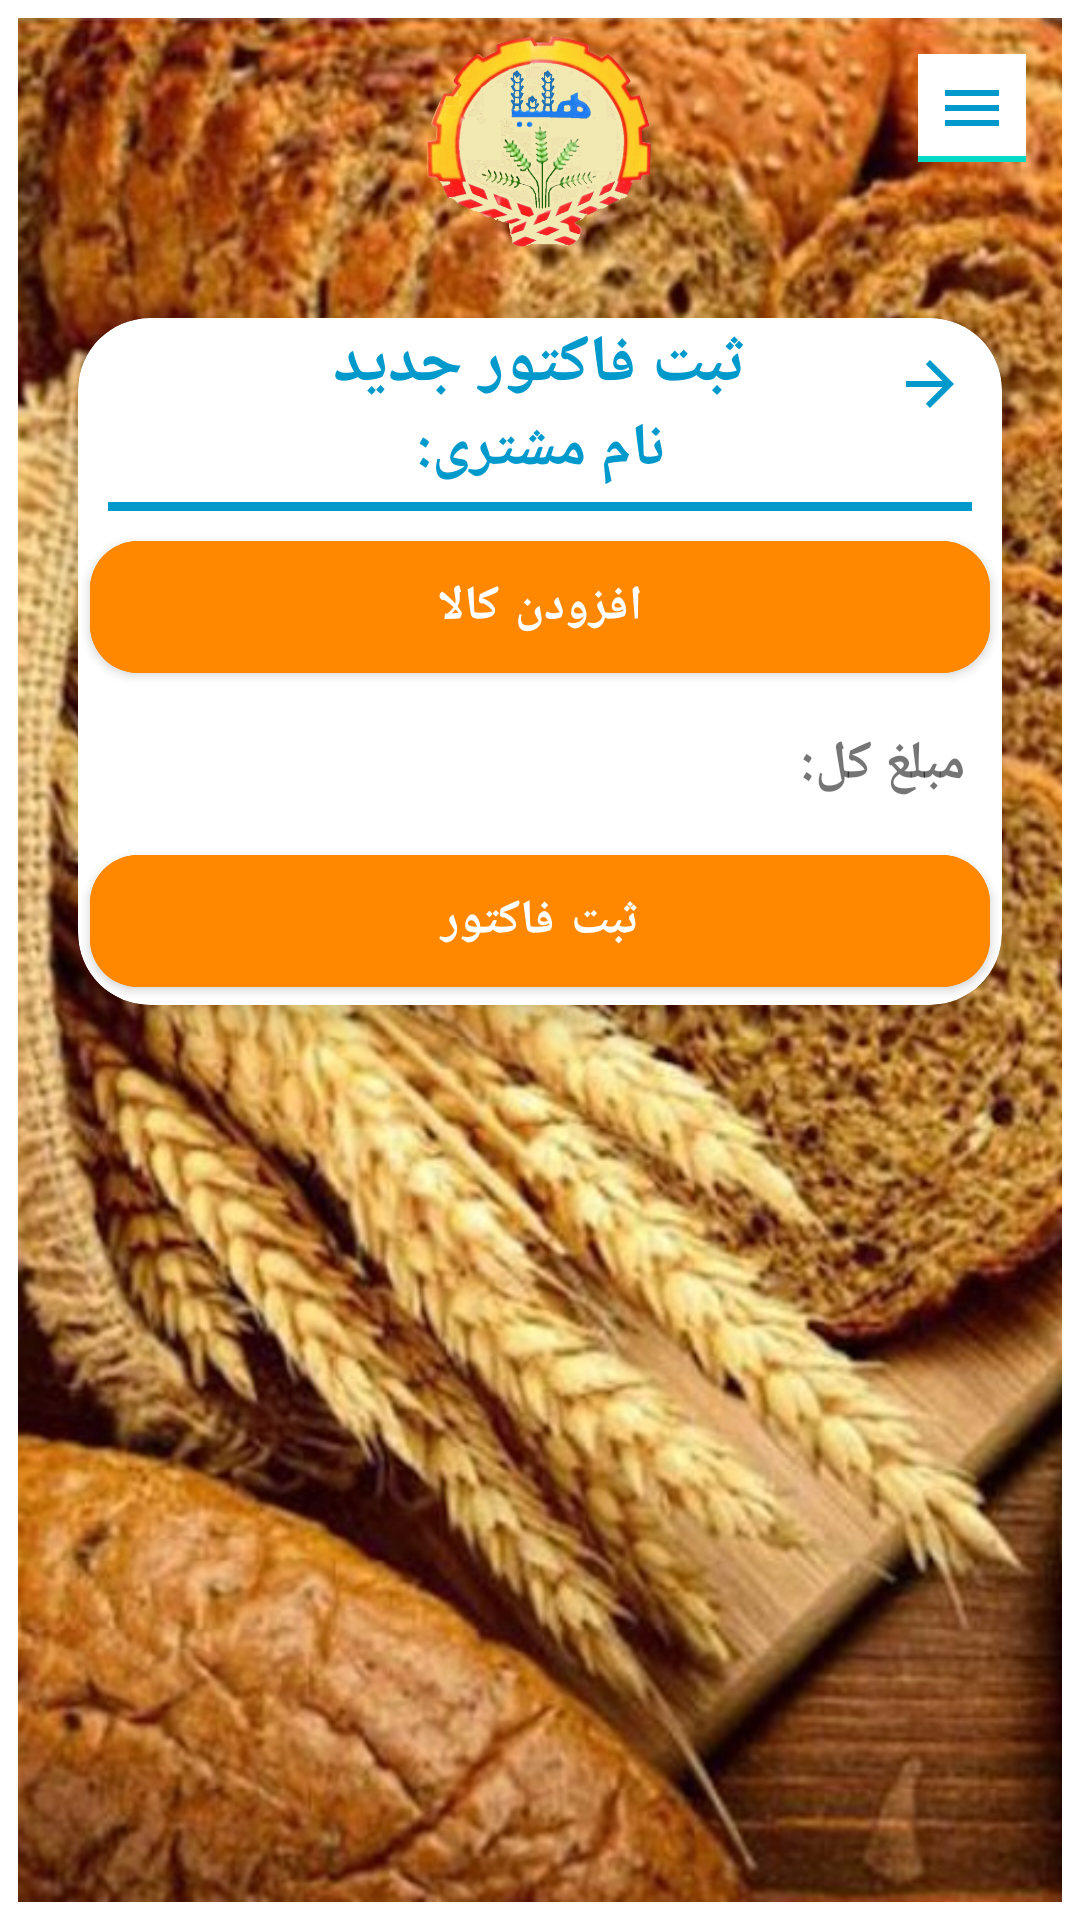

Screen size 1080x1920. Icon name, then its center in pixels as (x=x, y=y):
بازگشت به صفحه ورود: (x=930, y=384)
منو: (x=972, y=108)
